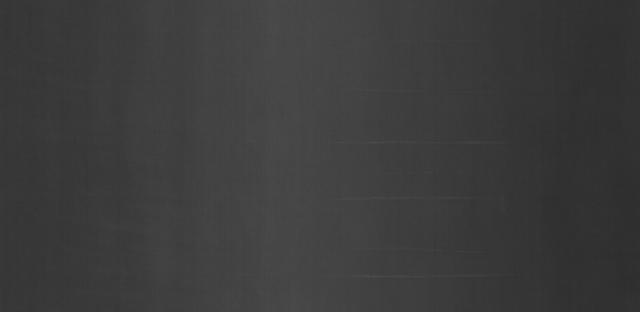waist_folding: (318, 32, 516, 295)
